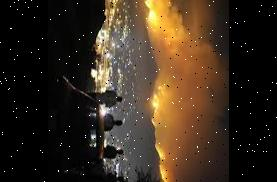fire: (148, 85, 170, 182), (138, 0, 160, 32)
